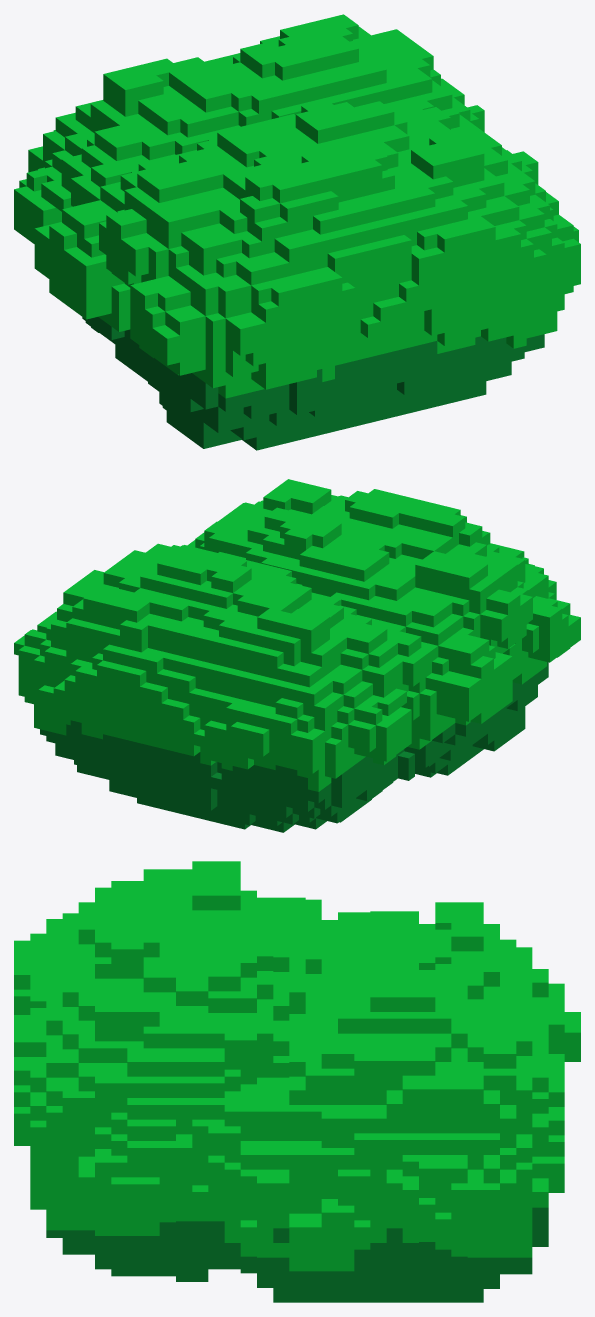
The model's file is canopy_0.glb.
3 renders of one model, top to bottom at view 1: azimuth 30°, elevation 25°; view 2: azimuth 150°, elevation 25°; view 3: azimuth 270°, elevation 25°, orthographic. The views are drawn at different scales.
Visible parts, largest first — view 1: canopy_0; view 2: canopy_0; view 3: canopy_0.
Boxes of the visible parts, box(x1,y1,x2,y2) form: canopy_0: box(14, 14, 580, 450); canopy_0: box(14, 479, 580, 832); canopy_0: box(14, 861, 580, 1302).
Bounding box in the file's own units: 11.1 × 5.7 × 10.5.
Materials: 1 (1 with a texture image).
